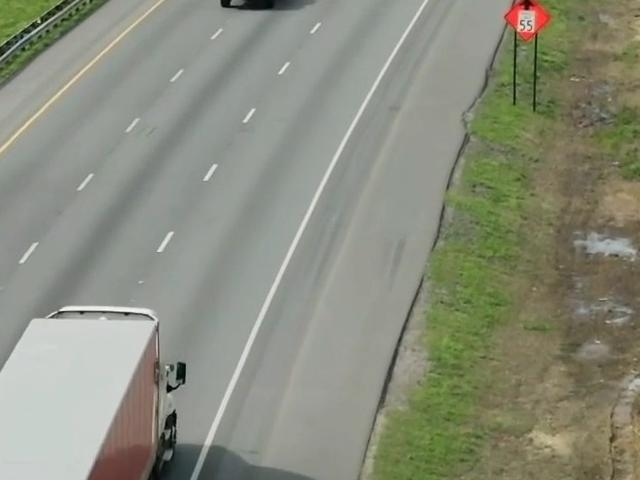truck: (0, 296, 182, 480)
